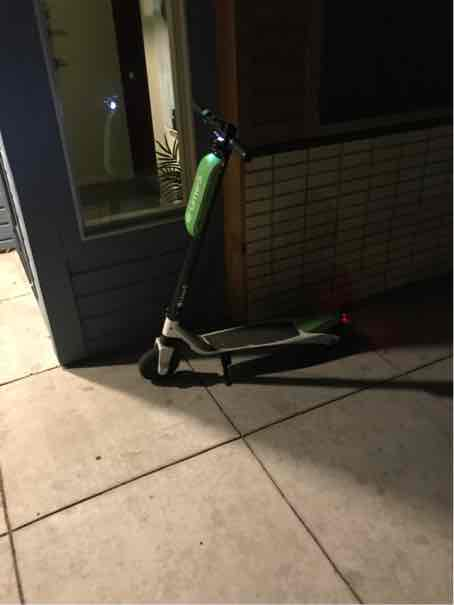scooter: (129, 95, 369, 391)
